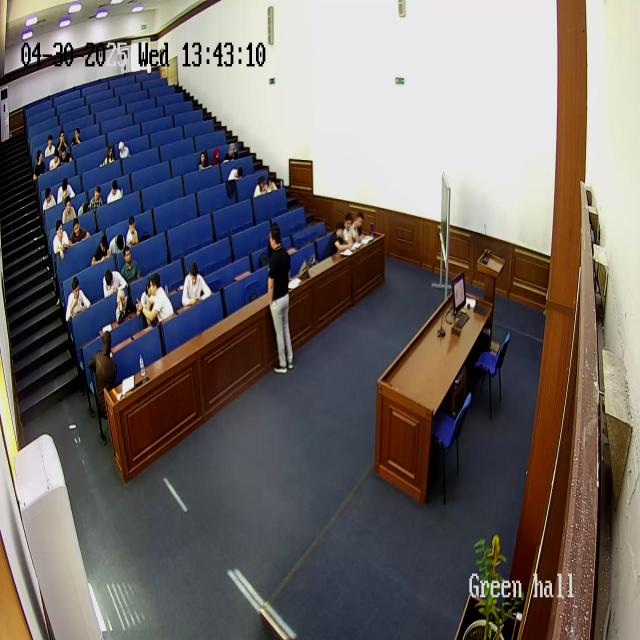person: (265, 222, 293, 374), (89, 330, 119, 430), (142, 273, 174, 327), (180, 262, 212, 308), (102, 268, 128, 321), (65, 276, 91, 326), (119, 245, 141, 287), (330, 219, 352, 257), (53, 220, 71, 262), (90, 234, 110, 266), (106, 226, 127, 256), (68, 219, 90, 246), (342, 212, 358, 246), (227, 166, 243, 200), (56, 178, 76, 205), (124, 215, 140, 248), (87, 184, 105, 212), (351, 210, 366, 241), (62, 195, 78, 224), (105, 180, 123, 204), (42, 187, 56, 213), (34, 152, 46, 180), (57, 128, 69, 155), (253, 177, 269, 197), (224, 140, 238, 162), (44, 135, 56, 159), (265, 171, 278, 193), (103, 144, 116, 165), (210, 145, 222, 167), (50, 146, 61, 170), (70, 127, 82, 148), (118, 140, 130, 160), (198, 149, 208, 171)
